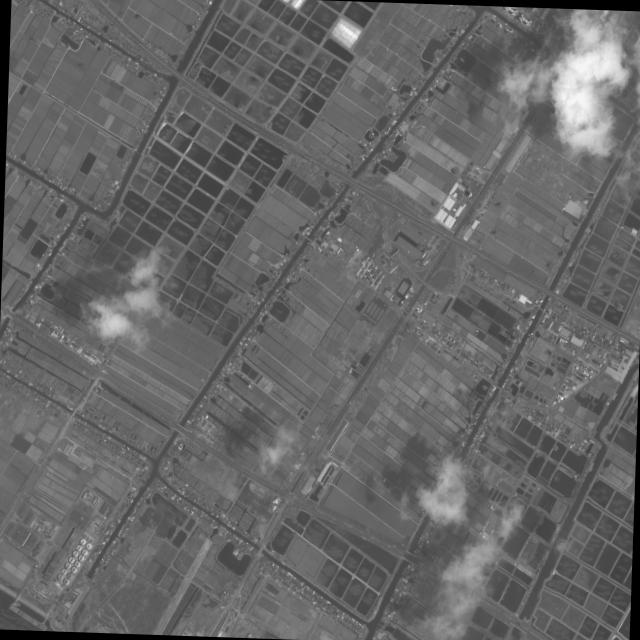storage-tank: (81, 548, 88, 556), (75, 544, 82, 552), (72, 549, 79, 557), (66, 572, 73, 580), (85, 542, 92, 549), (70, 566, 77, 573), (57, 574, 64, 581), (63, 578, 70, 585), (74, 560, 80, 568), (65, 561, 71, 569), (78, 554, 84, 561), (68, 556, 74, 563), (61, 568, 67, 575), (80, 538, 86, 545)
